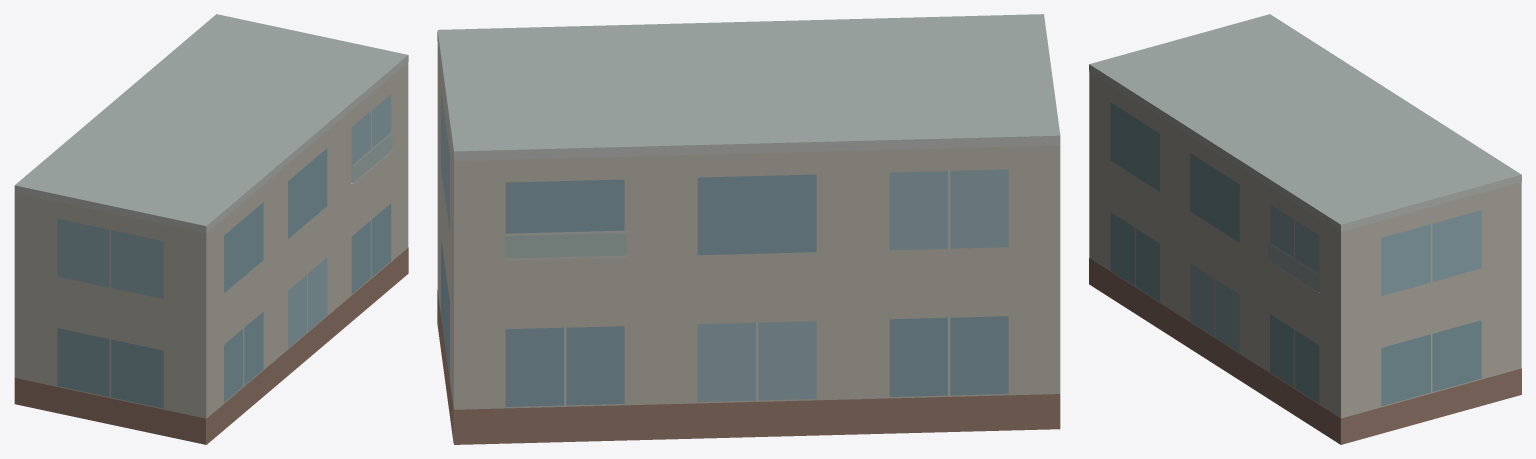
File: survey-upis-32974610.glb
3 renders of one model, left to right at view 1: azimuth 30°, elevation 25°; view 2: azimuth 150°, elevation 25°; view 3: azimuth 270°, elevation 25°, orthographic. The views are drawn at different scales.
Parts seen in each view (by area): view 1: survey-upis-32974610.tmp; view 2: survey-upis-32974610.tmp; view 3: survey-upis-32974610.tmp.
Part boxes in pixels (box(x1,y1,x2,y2)): survey-upis-32974610.tmp: box(14, 14, 408, 444); survey-upis-32974610.tmp: box(437, 14, 1060, 444); survey-upis-32974610.tmp: box(1089, 14, 1521, 444).
Bounding box in the file's own units: 15.2 × 7.4 × 13.19.
